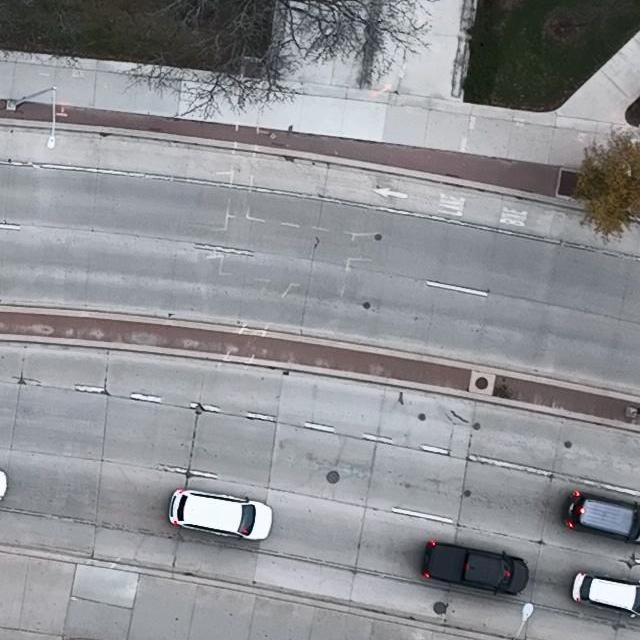car: (420, 538, 529, 595), (167, 487, 273, 540), (561, 490, 640, 544), (571, 572, 640, 617)
